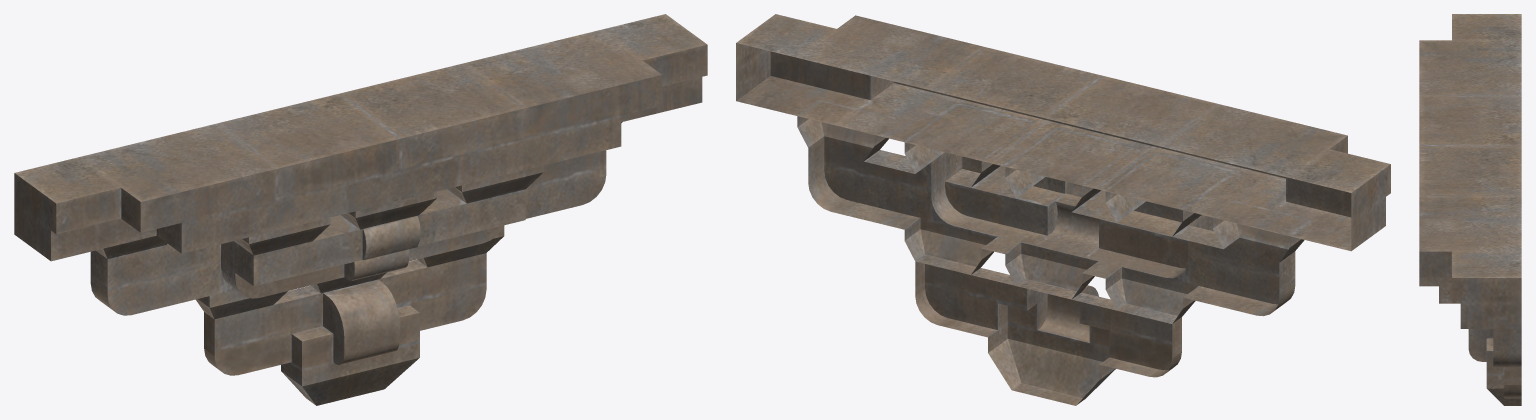
The model's file is DouGong.glb.
3 views of the same model, side by side, from view 1: azimuth 30°, elevation 25°; view 2: azimuth 150°, elevation 25°; view 3: azimuth 270°, elevation 25° (orthographic). The views are drawn at different scales.
Visible parts, largest first — view 1: DouGong; view 2: DouGong; view 3: DouGong.
Part boxes in pixels (<box>): DouGong: <box>14,14,707,405</box>; DouGong: <box>736,14,1390,405</box>; DouGong: <box>1419,14,1521,405</box>.
Size of the model in its own units: 1.44 by 0.6251 by 0.235.
1 material, 1 textured.
